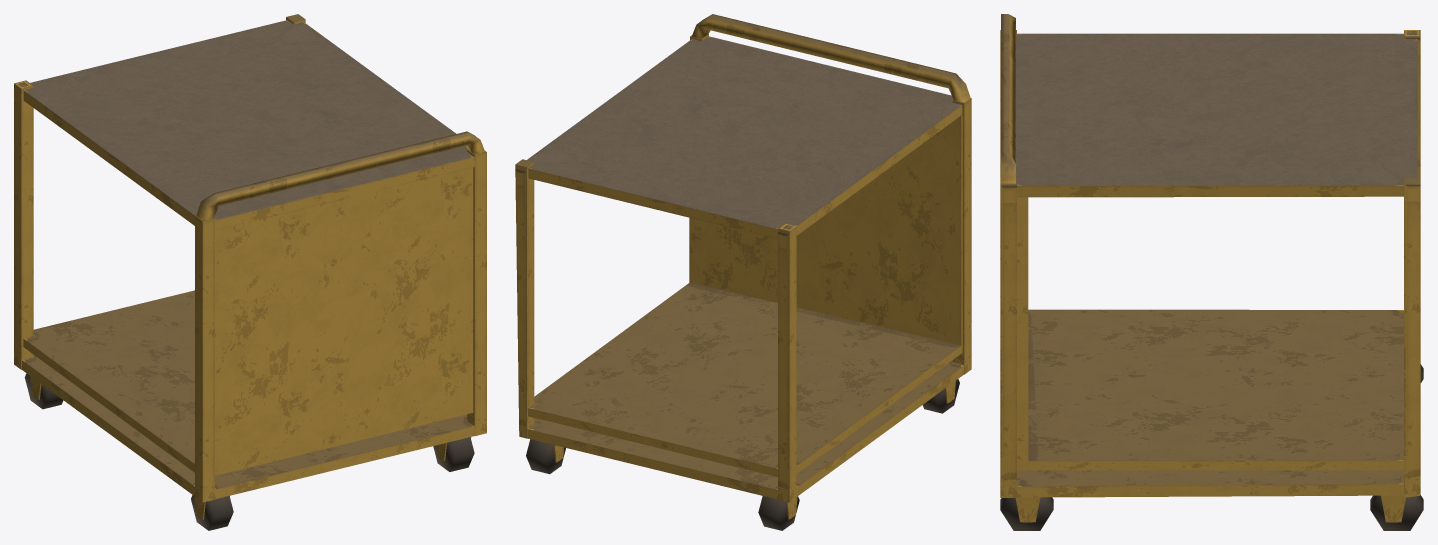
The model's file is CheZi.FBX.
3 views of the same model, side by side, from view 1: azimuth 30°, elevation 25°; view 2: azimuth 150°, elevation 25°; view 3: azimuth 270°, elevation 25° (orthographic). The views are drawn at different scales.
Visible parts, largest first — view 1: YF_Model_CheZi; view 2: YF_Model_CheZi; view 3: YF_Model_CheZi.
Boxes of the visible parts, x1,y1,x2,y2 form: YF_Model_CheZi: (14,14,486,530); YF_Model_CheZi: (515,14,971,530); YF_Model_CheZi: (1000,14,1423,530).
Bounding box in the file's own units: 15.55 × 17.71 × 17.99.
